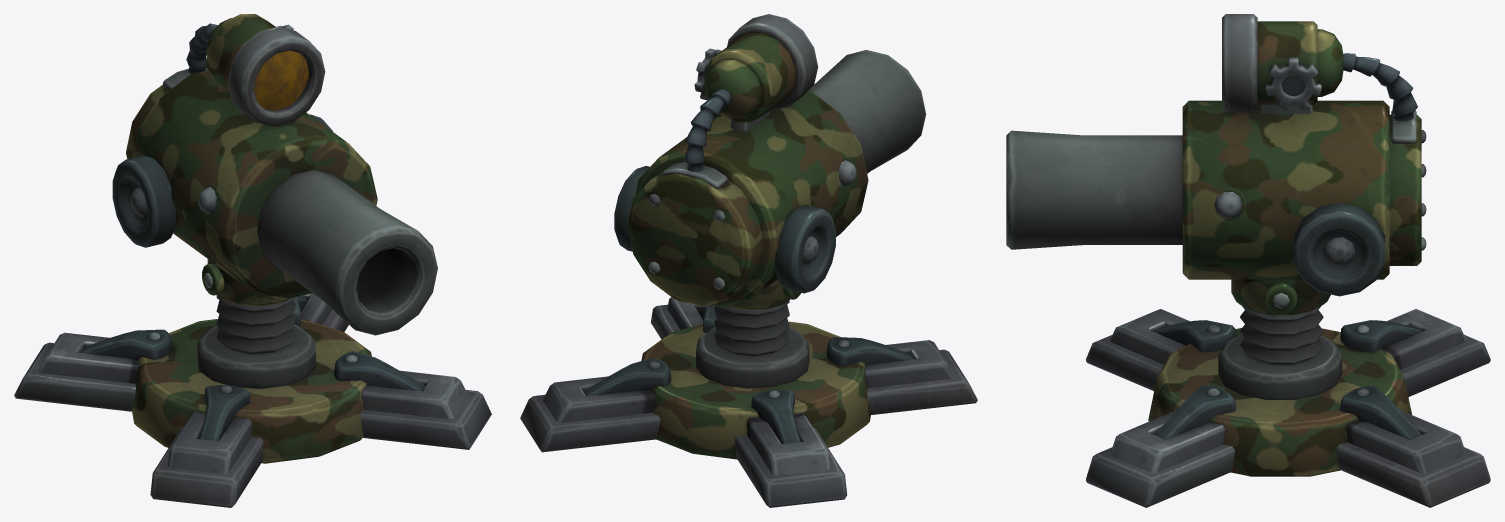
File: SM_TowerDefense_Assault_Weapon_Shoot_Base.fbx
The picture shows the model from 3 angles, left to right: view 1: azimuth 30°, elevation 25°; view 2: azimuth 150°, elevation 25°; view 3: azimuth 270°, elevation 25°; orthographic projection. The views are drawn at different scales.
Parts seen in each view (by area): view 1: SM_TowerDefense_Assault_Weapon_Shoot_Gun, SM_TowerDefense_Assault_Weapon_Shoot_Base; view 2: SM_TowerDefense_Assault_Weapon_Shoot_Gun, SM_TowerDefense_Assault_Weapon_Shoot_Base; view 3: SM_TowerDefense_Assault_Weapon_Shoot_Gun, SM_TowerDefense_Assault_Weapon_Shoot_Base.
Boxes of the visible parts, x1,y1,x2,y2 form: SM_TowerDefense_Assault_Weapon_Shoot_Gun: (112,14,437,335); SM_TowerDefense_Assault_Weapon_Shoot_Base: (14,293,491,507); SM_TowerDefense_Assault_Weapon_Shoot_Gun: (614,14,926,310); SM_TowerDefense_Assault_Weapon_Shoot_Base: (520,297,977,507); SM_TowerDefense_Assault_Weapon_Shoot_Gun: (1006,14,1426,315); SM_TowerDefense_Assault_Weapon_Shoot_Base: (1086,306,1490,507).
Size of the model in its own units: 516 by 569 by 617.
